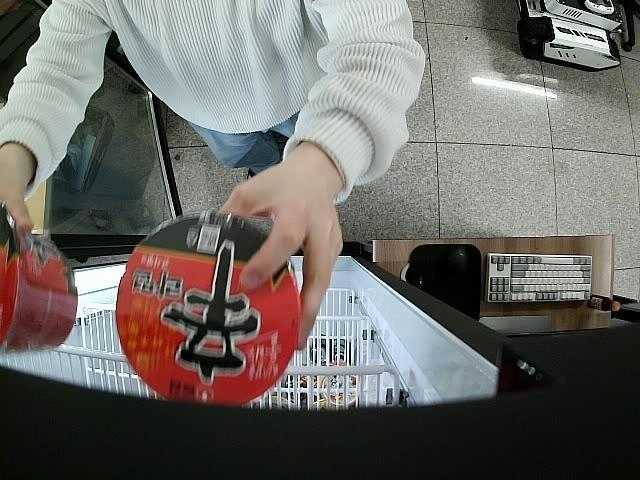01_ShinRamen_L: (116, 208, 304, 402), (0, 200, 79, 355)
